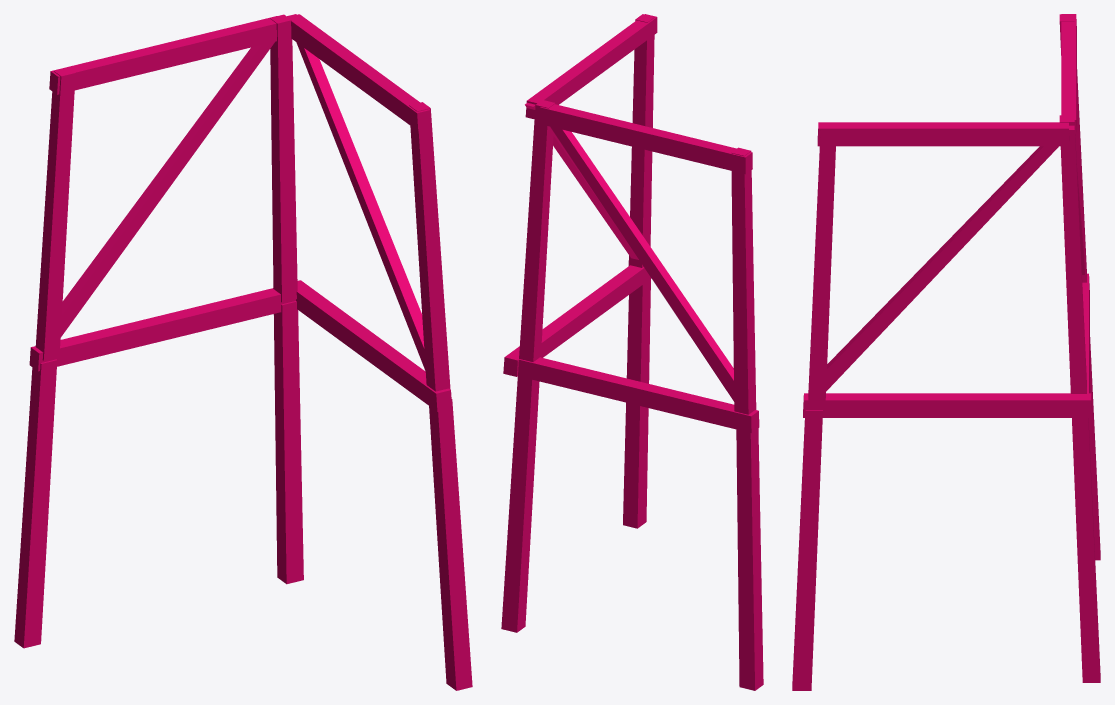
The model's file is Bastion_Pillar_02_Lod0.fbx.
3 renders of one model, left to right at view 1: azimuth 30°, elevation 25°; view 2: azimuth 150°, elevation 25°; view 3: azimuth 270°, elevation 25°, orthographic. The views are drawn at different scales.
Visible parts, largest first — view 1: Bastion_Pillar_02_Lod0; view 2: Bastion_Pillar_02_Lod0; view 3: Bastion_Pillar_02_Lod0.
Boxes of the visible parts, x1,y1,x2,y2 form: Bastion_Pillar_02_Lod0: [14, 14, 472, 690]; Bastion_Pillar_02_Lod0: [501, 14, 763, 690]; Bastion_Pillar_02_Lod0: [792, 14, 1100, 690].
Bounding box in the file's own units: 326 × 602 × 306.
